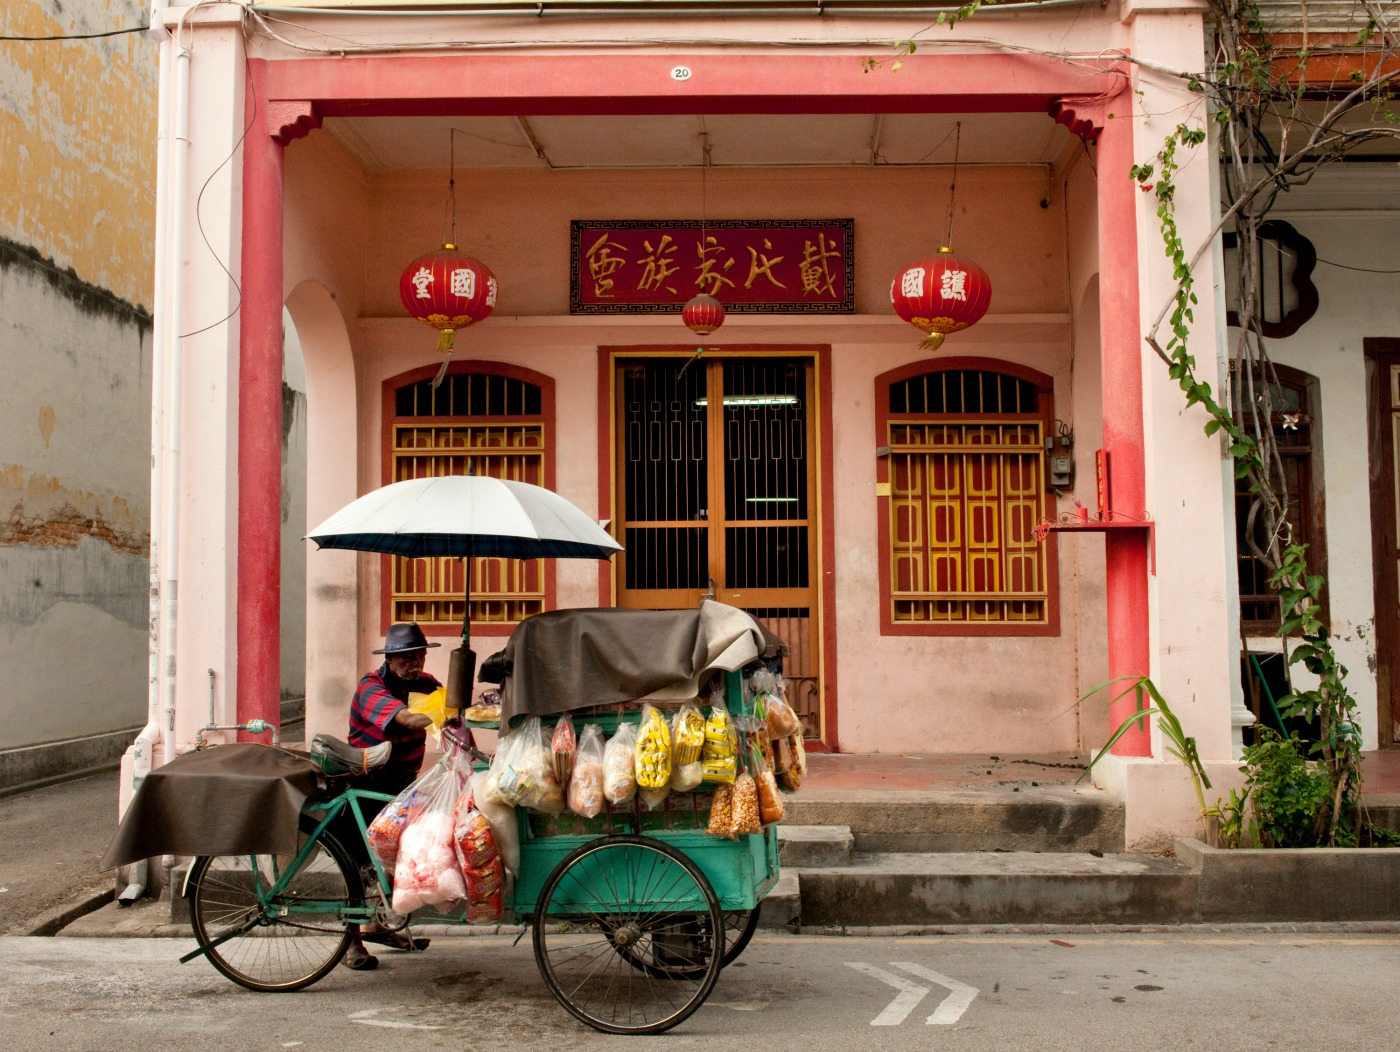cart: (497, 607, 795, 1036)
person: (351, 624, 430, 769)
plant: (1123, 672, 1400, 913)
